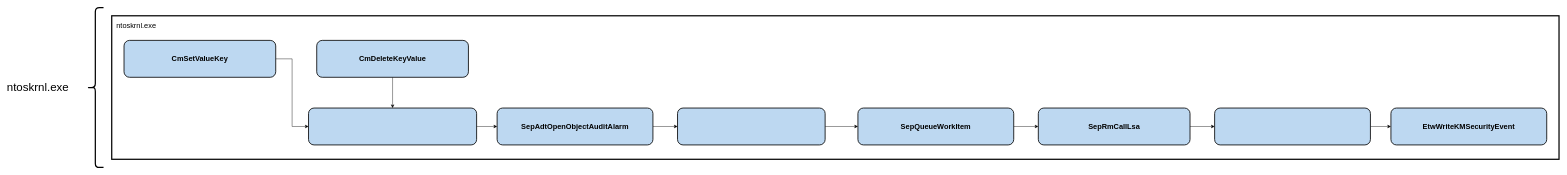
Image size: 1567x175. Some labels were removed from this diagram. The shapes that lost their labels are listed below. From the top down, each one's centre as x and y in pixels, then its label:
At point 392,126: "SeAdtRegistryValueChangedAuditAlarm".
At point 751,126: "SepAdtLogAuditRecord".
At point 1292,126: "AdtpWriteToEtw".
